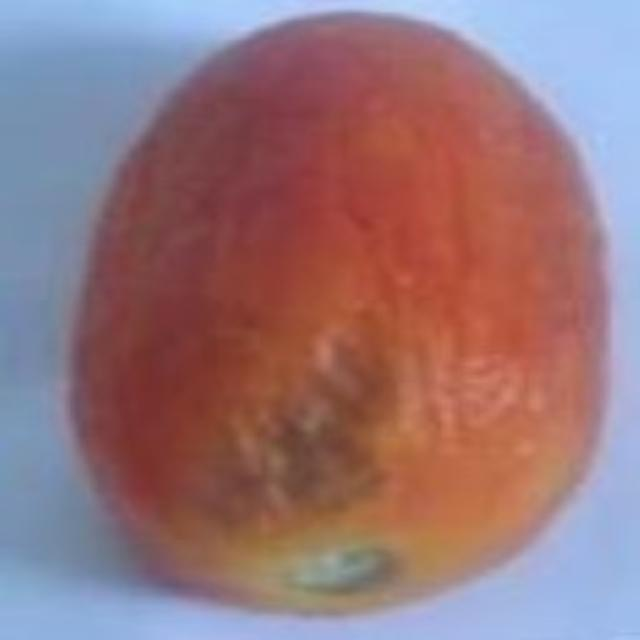defect: (73, 11, 616, 623)
